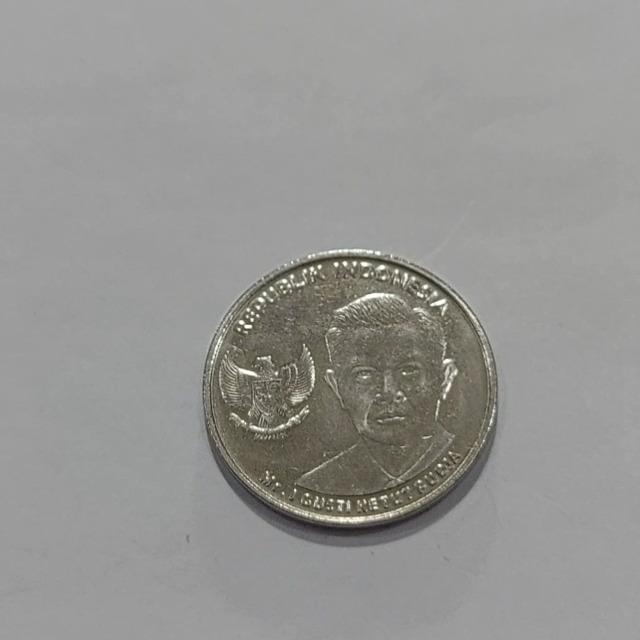Rp100: (201, 247, 499, 530), (291, 289, 463, 497)
